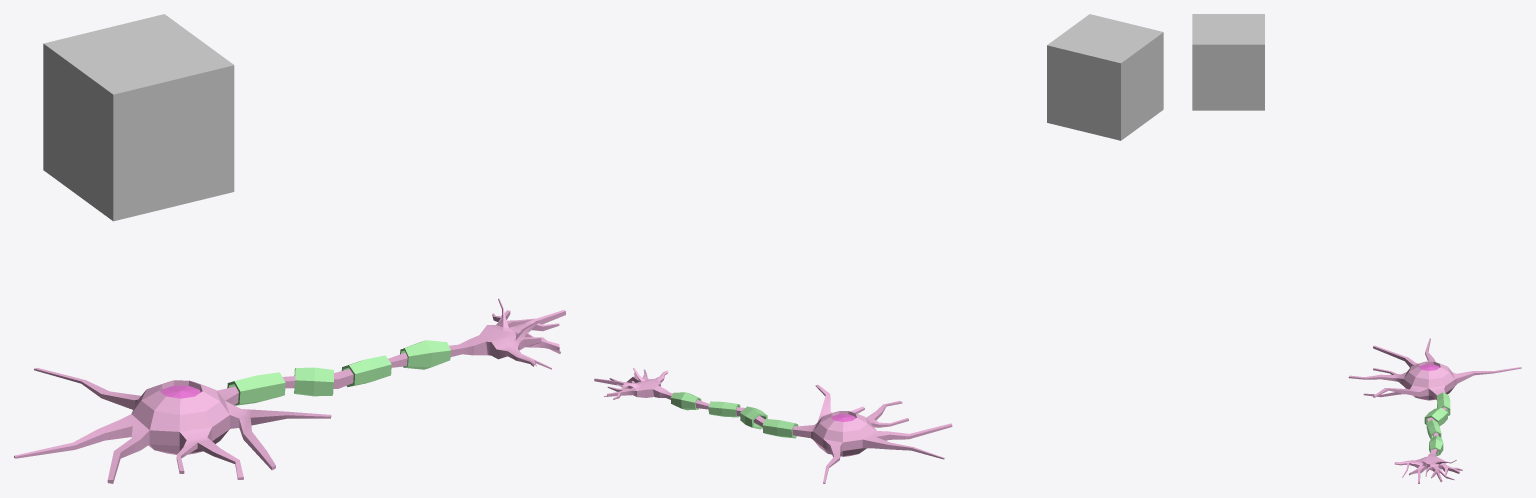
File: neuron.fbx
3 renders of one model, left to right at view 1: azimuth 30°, elevation 25°; view 2: azimuth 150°, elevation 25°; view 3: azimuth 270°, elevation 25°, orthographic. The views are drawn at different scales.
Visible parts, largest first — view 1: Cube, Neuron_pCube2; view 2: Cube, Neuron_pCube2; view 3: Cube, Neuron_pCube2.
Part boxes in pixels (left/top/right/bottom): Cube: left=43, top=14, right=234, bottom=221; Neuron_pCube2: left=14, top=298, right=565, bottom=483; Cube: left=1047, top=14, right=1163, bottom=140; Neuron_pCube2: left=594, top=368, right=952, bottom=483; Cube: left=1192, top=14, right=1264, bottom=110; Neuron_pCube2: left=1348, top=338, right=1521, bottom=483.
Size of the model in its own units: 11.42 by 9.32 by 9.06.
